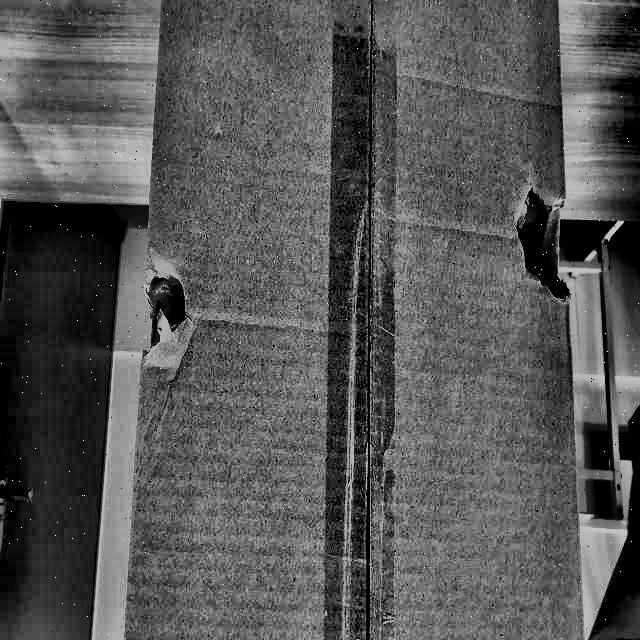box: (120, 0, 593, 640)
hole: (516, 170, 570, 306), (143, 257, 189, 370)
